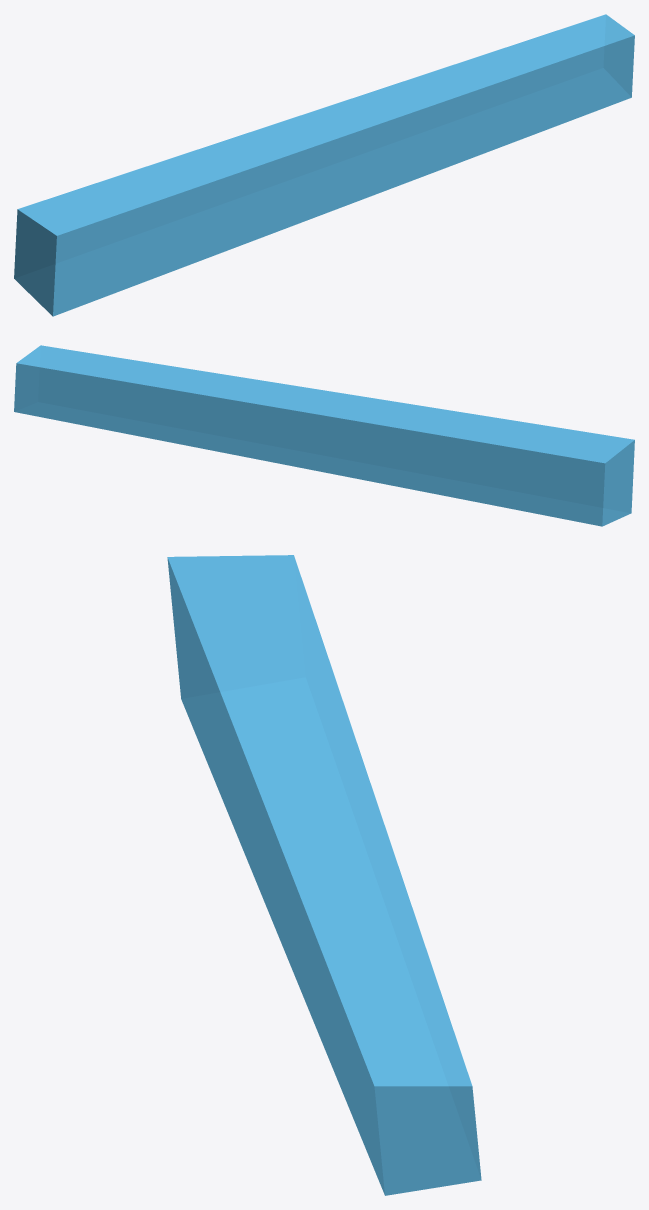
Rendered from Event_420094457_HErechit_59.fbx.
The picture shows the model from 3 angles, top to bottom: view 1: azimuth 30°, elevation 25°; view 2: azimuth 150°, elevation 25°; view 3: azimuth 270°, elevation 25°; orthographic projection. The views are drawn at different scales.
Visible parts, largest first — view 1: Model; view 2: Model; view 3: Model.
Part boxes in pixels (bbox=[...]): Model: bbox=[14, 14, 634, 316]; Model: bbox=[14, 345, 634, 526]; Model: bbox=[167, 555, 481, 1195].
Size of the model in its own units: 3.18 by 0.3961 by 0.7935.
